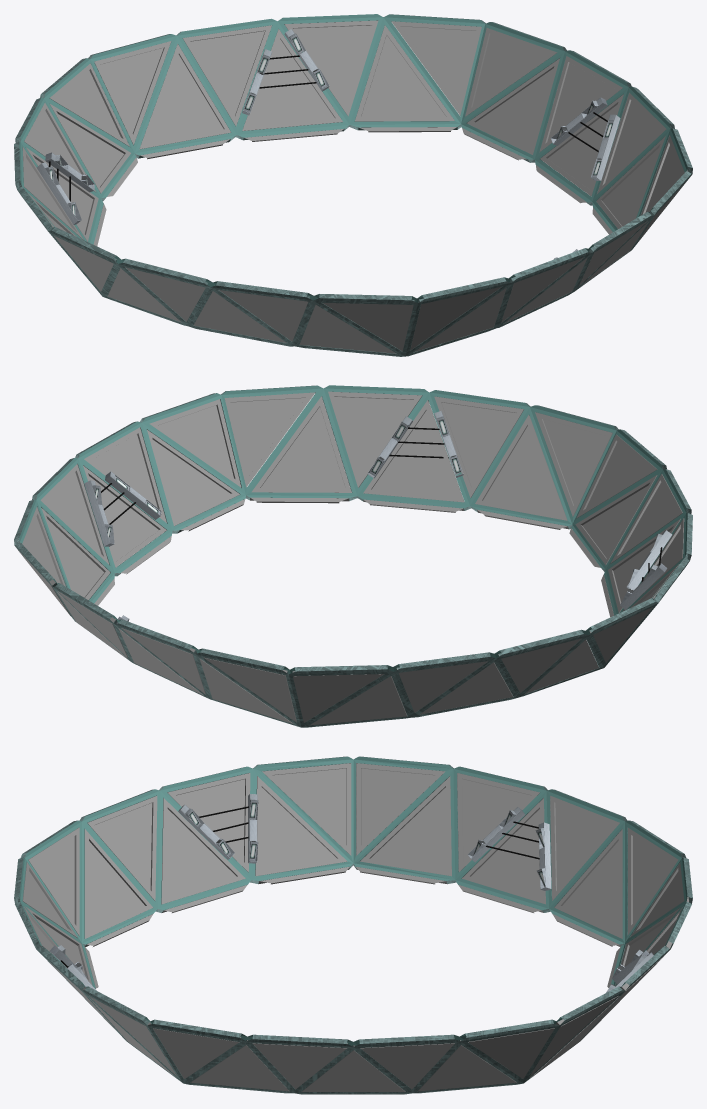
3 views of the same model, one above another, from view 1: azimuth 30°, elevation 25°; view 2: azimuth 150°, elevation 25°; view 3: azimuth 270°, elevation 25° (orthographic).
Parts seen in each view (by area): view 1: Estructura esfera001; view 2: Estructura esfera001; view 3: Estructura esfera001.
Part boxes in pixels (x1,y1,x2,y2): Estructura esfera001: [14, 14, 692, 356]; Estructura esfera001: [14, 385, 692, 727]; Estructura esfera001: [14, 756, 692, 1094].
Bounding box in the file's own units: 86.69 × 12.24 × 86.58.
5 materials, 2 textured.
